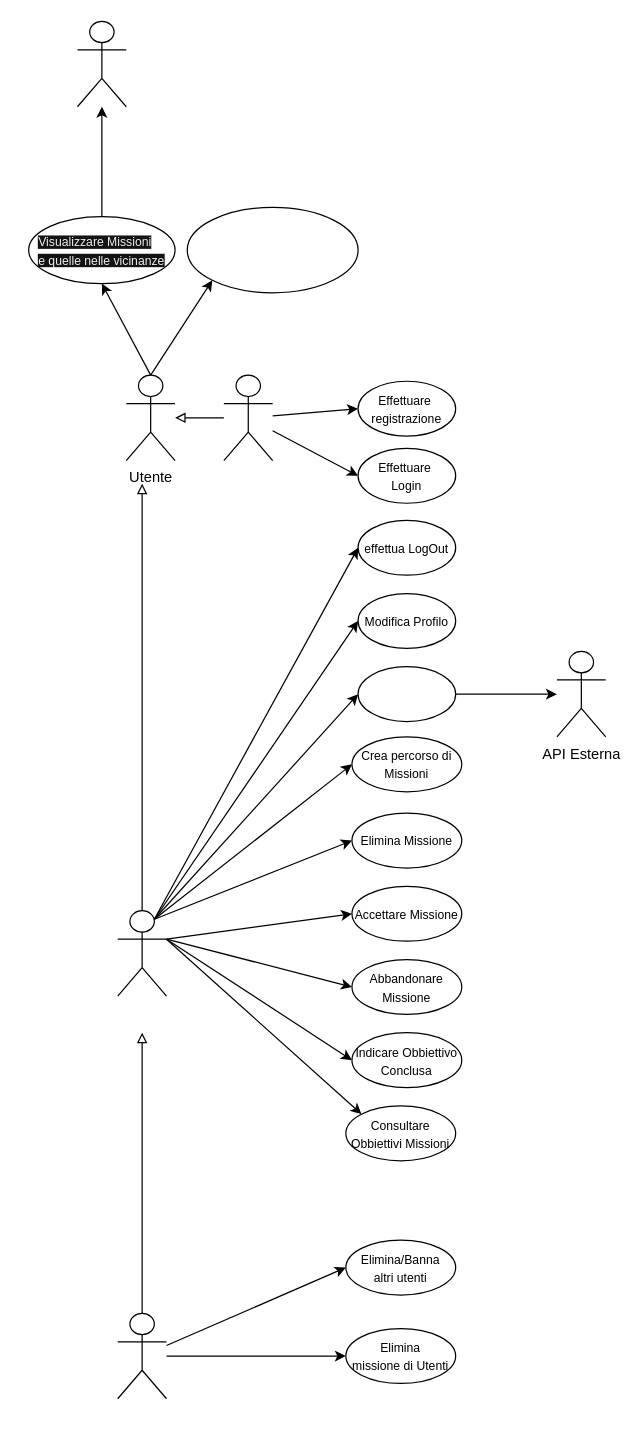
This 642x1446 diagram has some shape labels left out. Here are the shapes that lost their labels. From the top down, the centre of each, then its label:
At (101,63): "API Geolcalizzazione".
At (272,249): "Cercare e filtrare missioni (parole chiave, categoria, stato)".
At (248,417): "Utente Non Registrato".
At (406,694): "Crea e pubblica missione".
At (142,953): "utente Registrato".
At (142,1355): "Amministratore".
